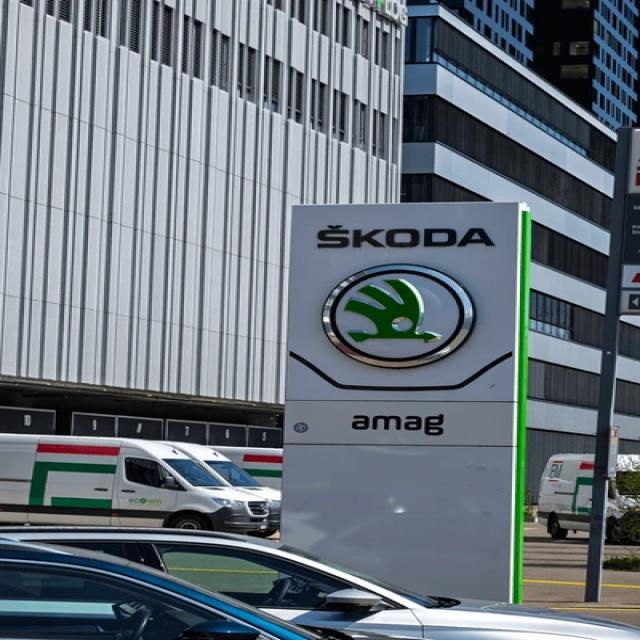skoda: (320, 262, 478, 366)
